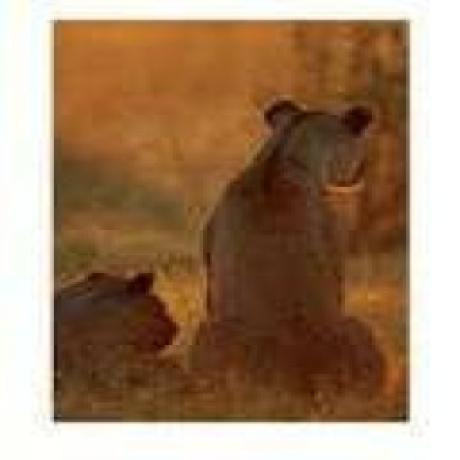Lion: (192, 91, 389, 398), (55, 262, 181, 388)
